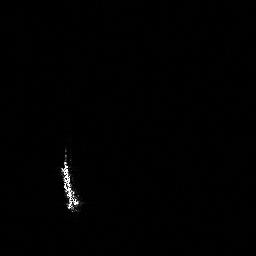ship: (56, 154, 85, 216)
